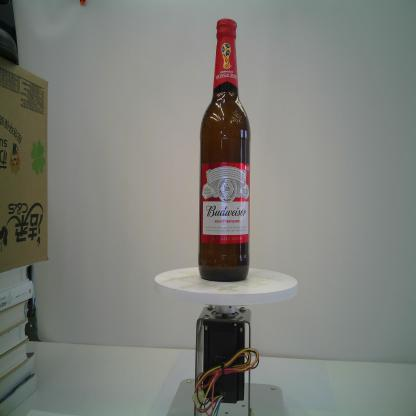Alcohol: (198, 17, 250, 283)
